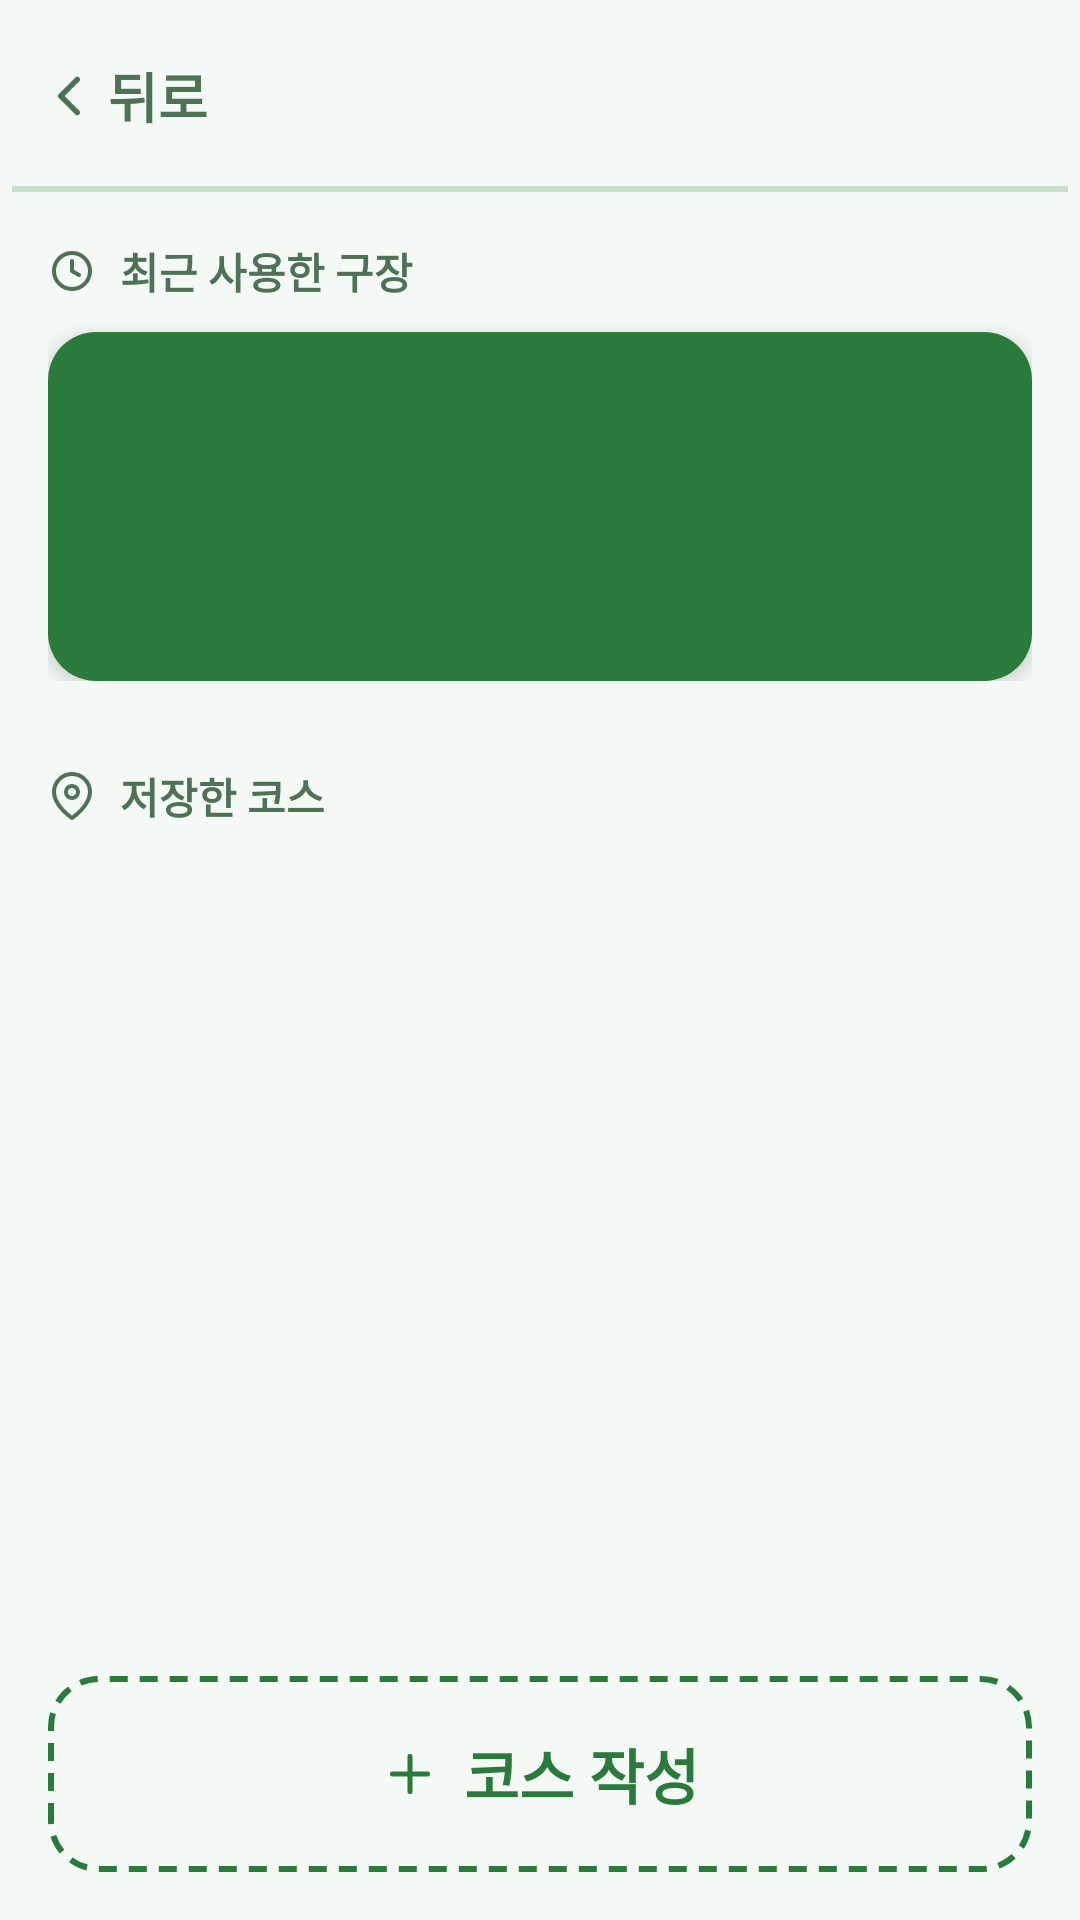

Icon click points for this 1080×1920 phone screenshot, format (x,y):
chevron left: (69,96)
clock: (72,271)
map pin: (72,796)
plus: (410,1774)
